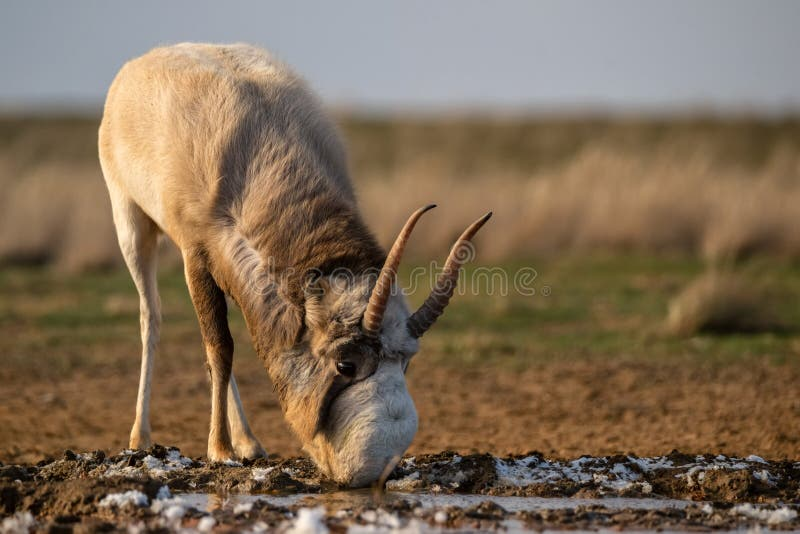saiga: (80, 34, 492, 506)
